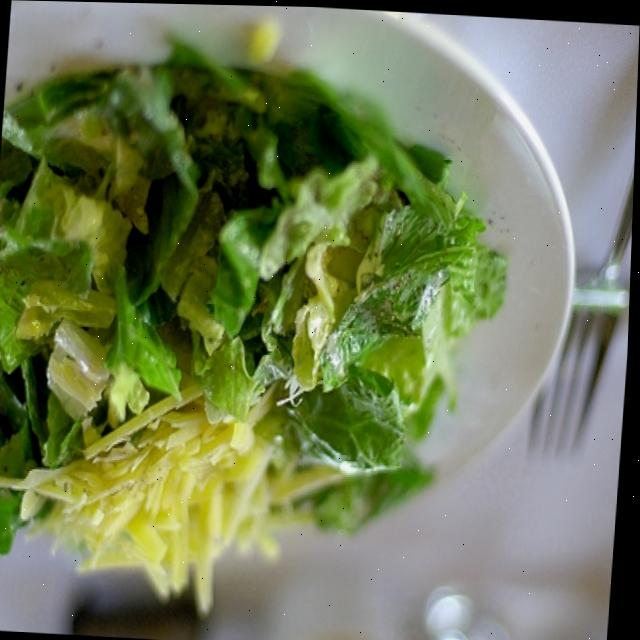蔬菜料理: (0, 0, 607, 630)
